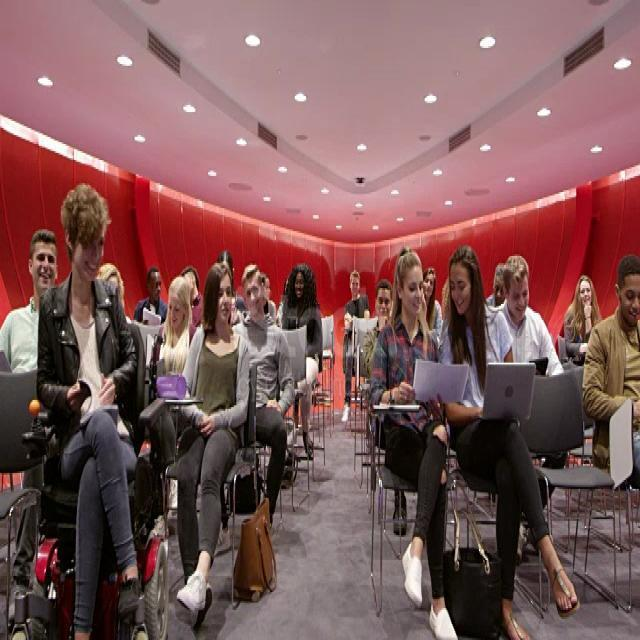Looking away: (449, 262, 472, 314), (619, 274, 640, 324), (402, 264, 422, 314), (507, 276, 529, 318), (218, 273, 232, 324), (168, 292, 183, 328), (492, 272, 506, 306), (149, 270, 162, 304), (422, 272, 434, 298)
Looking forward: (74, 232, 105, 282), (32, 241, 54, 291), (244, 272, 263, 318), (376, 286, 392, 321), (294, 272, 306, 300), (580, 279, 592, 307), (352, 274, 359, 296)
